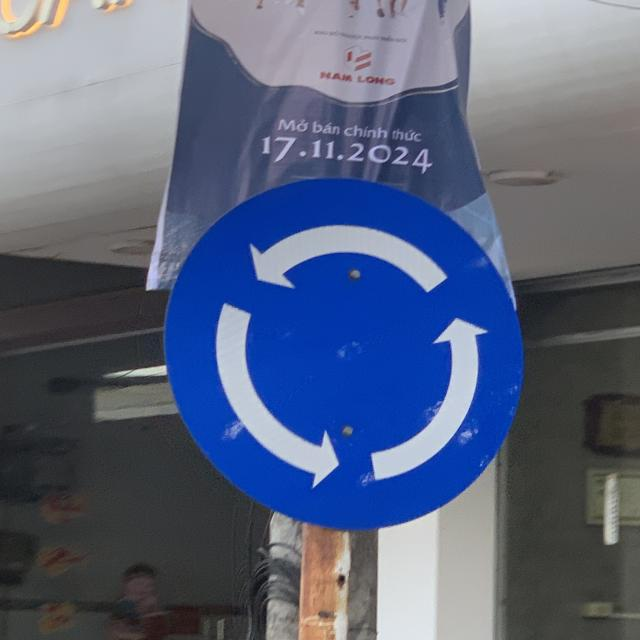Xe_Bus: (161, 179, 531, 533)
